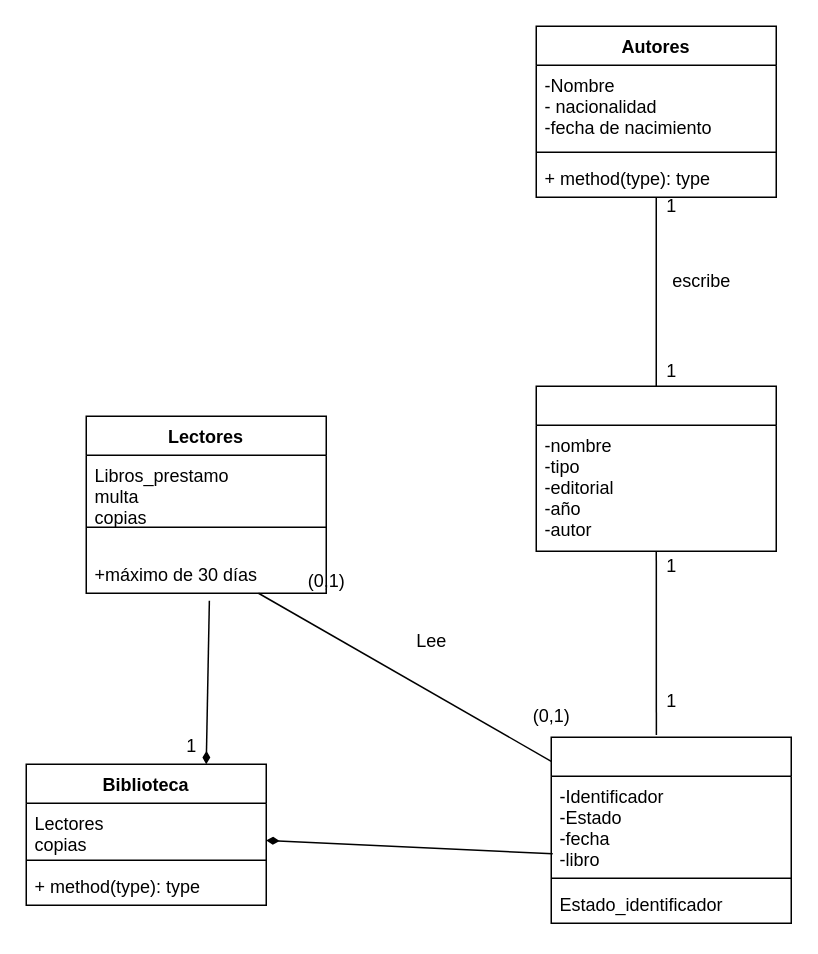
Some shapes in this 818 by 954 pixel diagram are drawn without their labels. Here are the shapes that lost their labels. From the top down, the box of each, then its label:
(535, 385, 776, 551): Libros
(550, 736, 791, 923): Copias de libros
